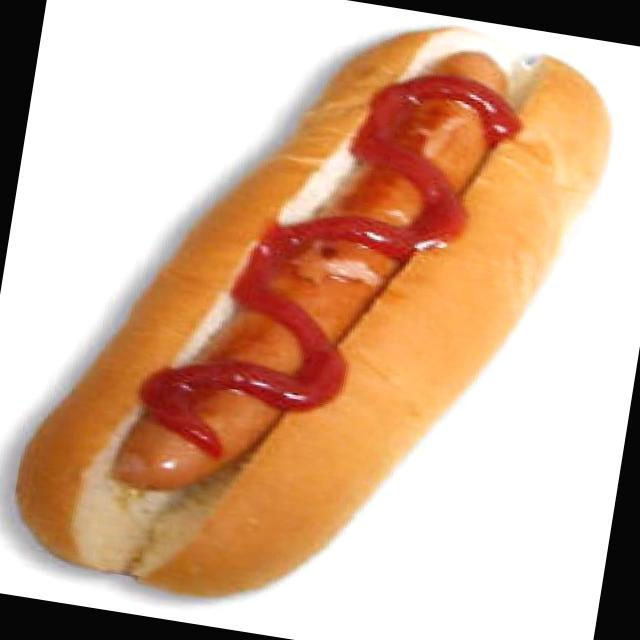Hot Dog: (0, 0, 613, 640)
